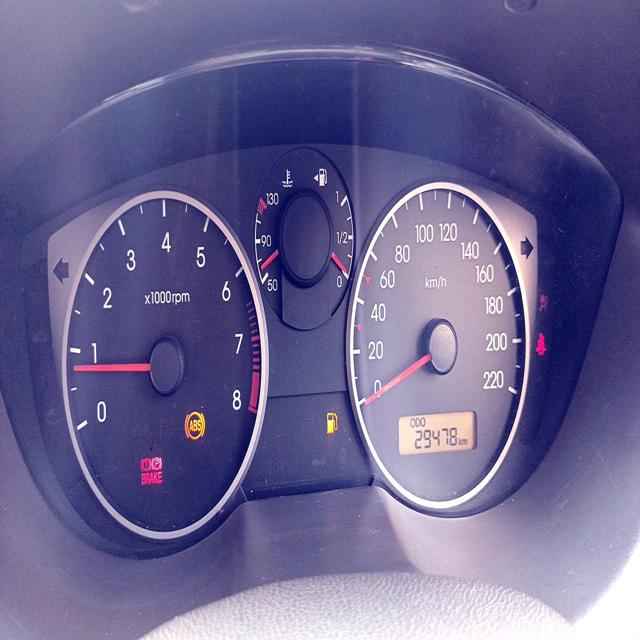odometer: (412, 425, 459, 456)
